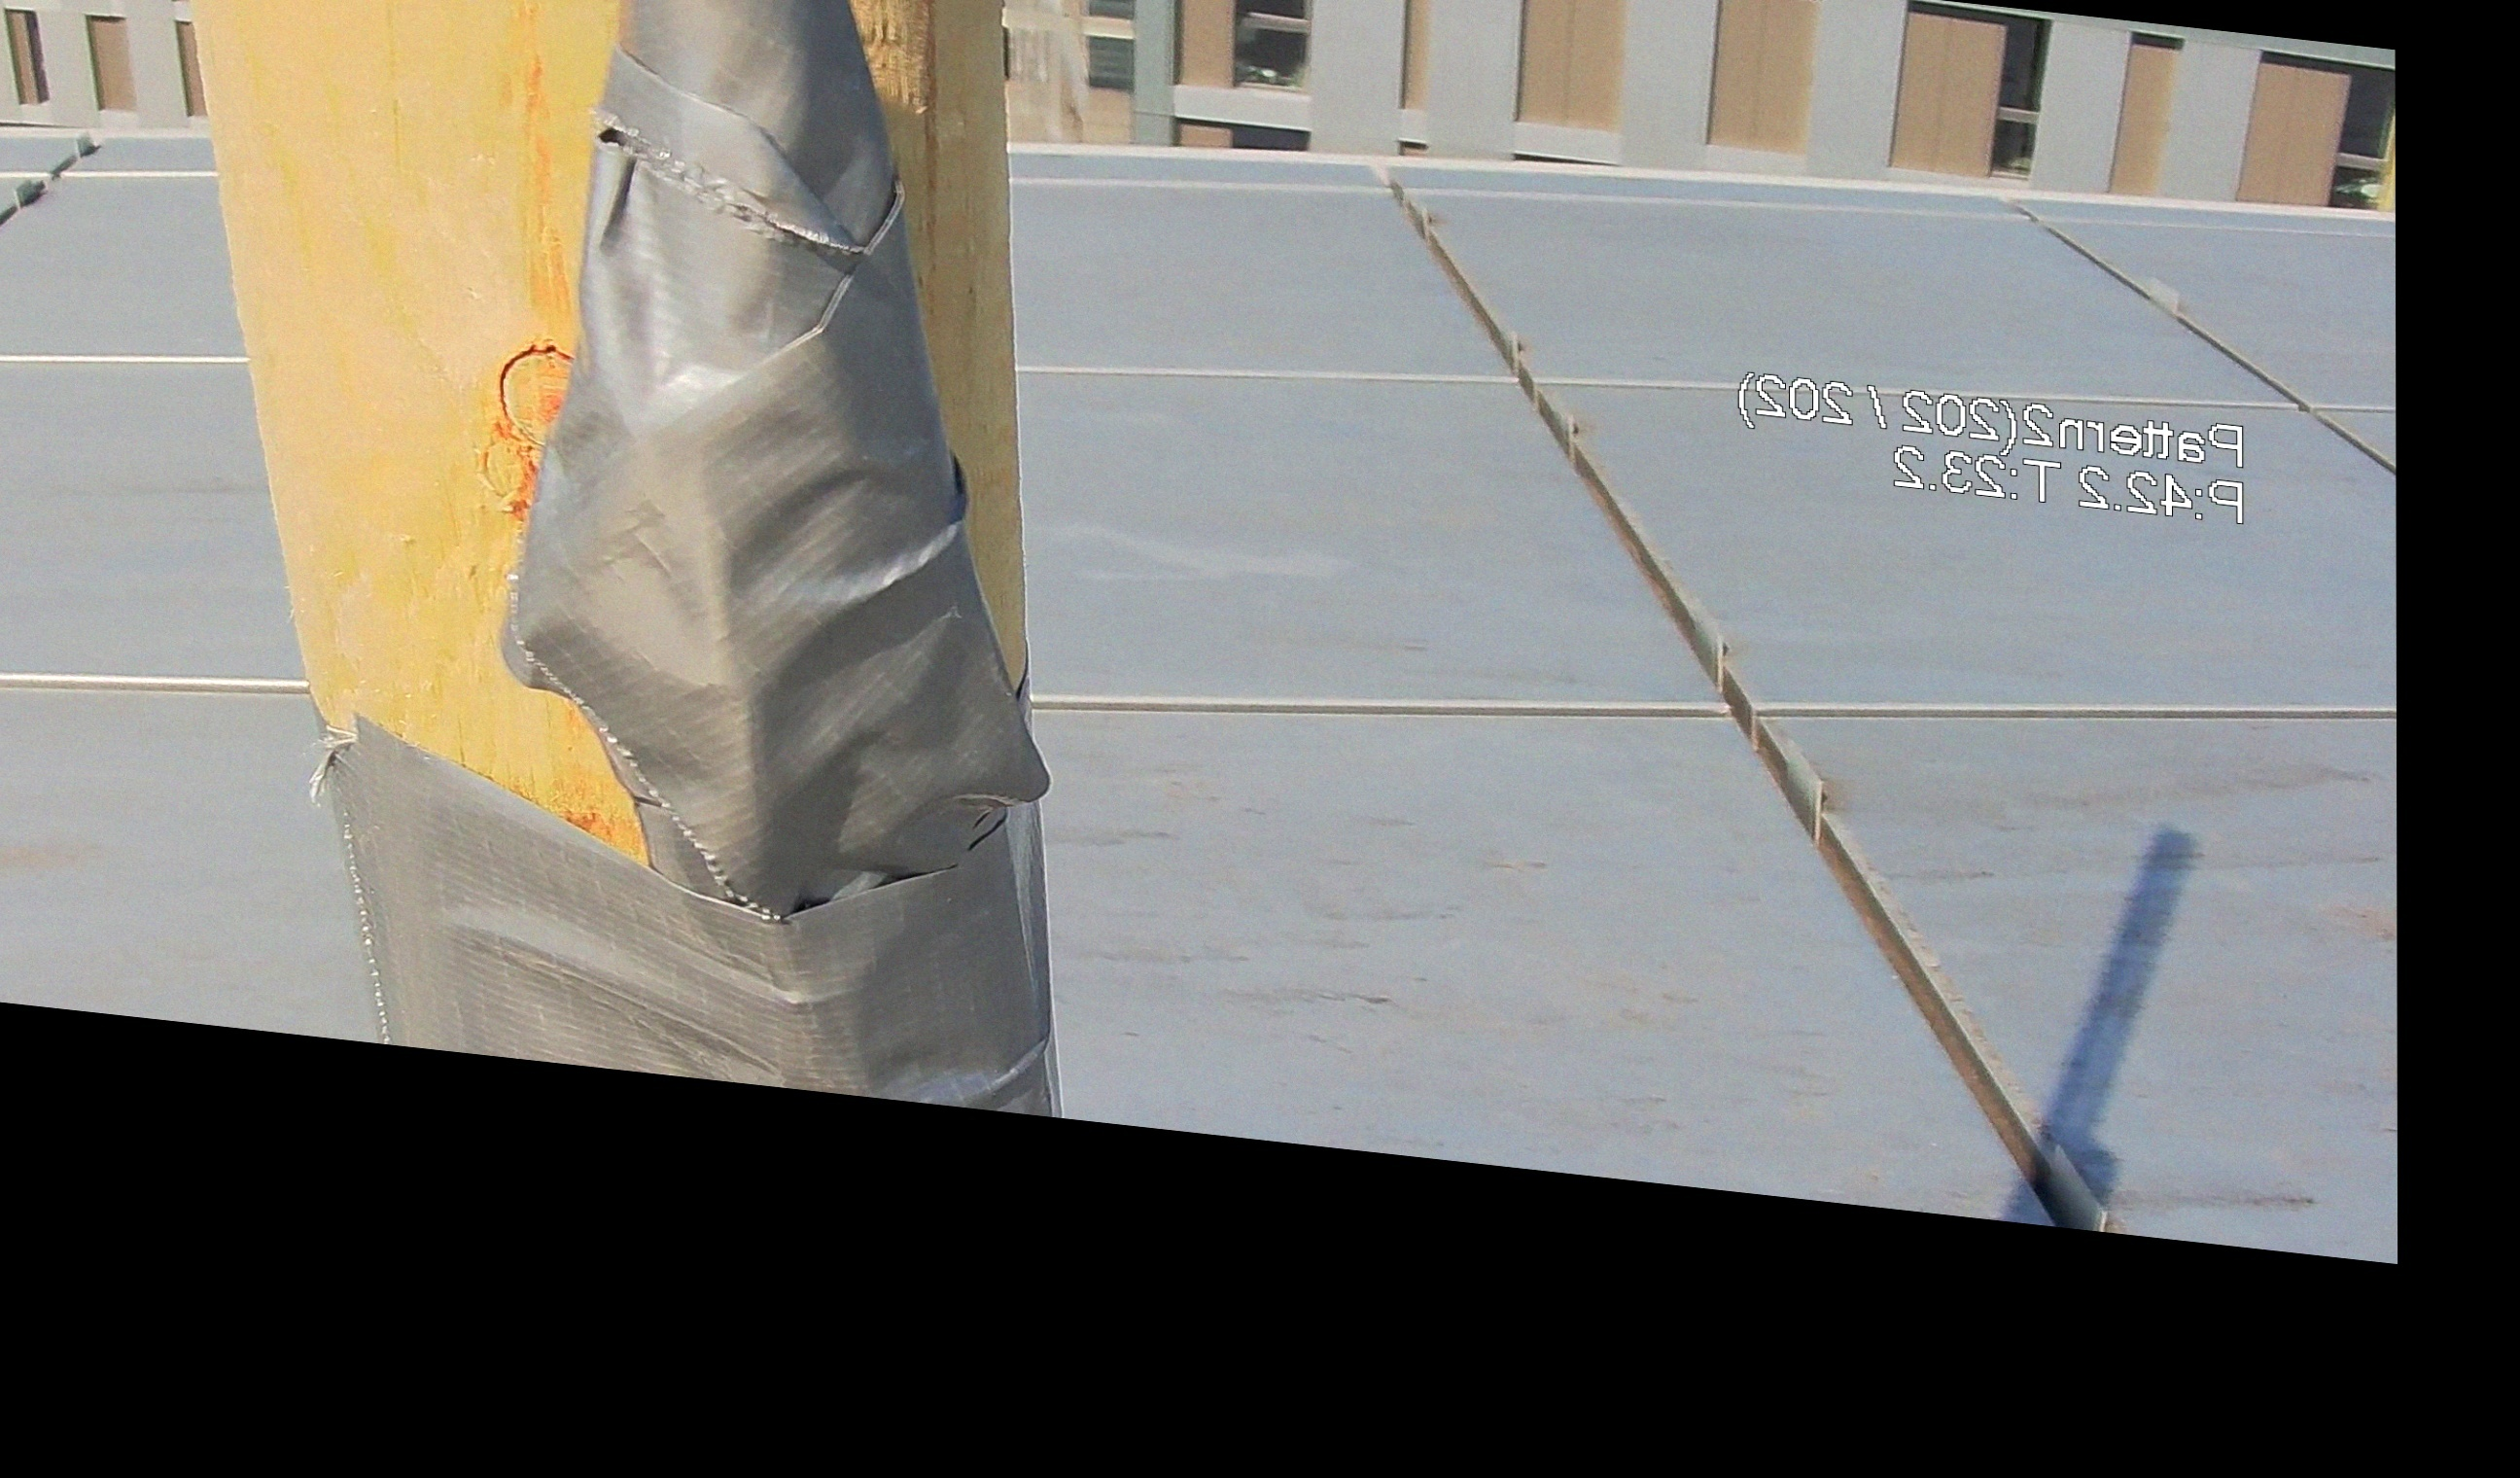Other: (480, 0, 1027, 1038)
